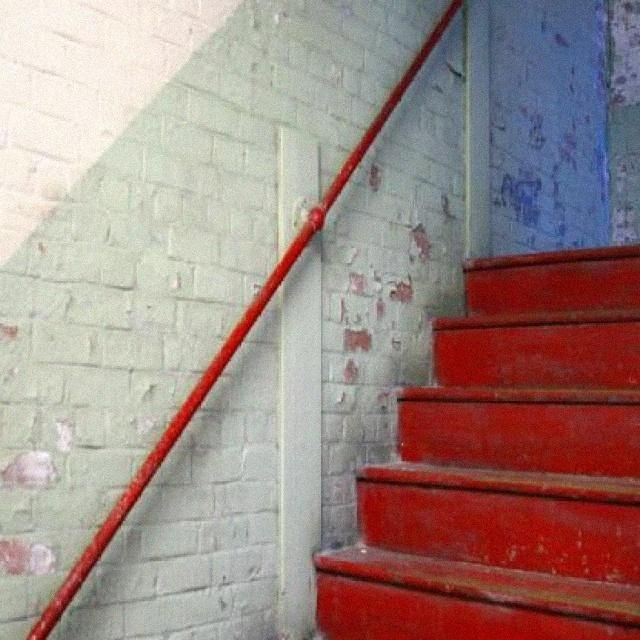stair: (314, 244, 640, 640)
